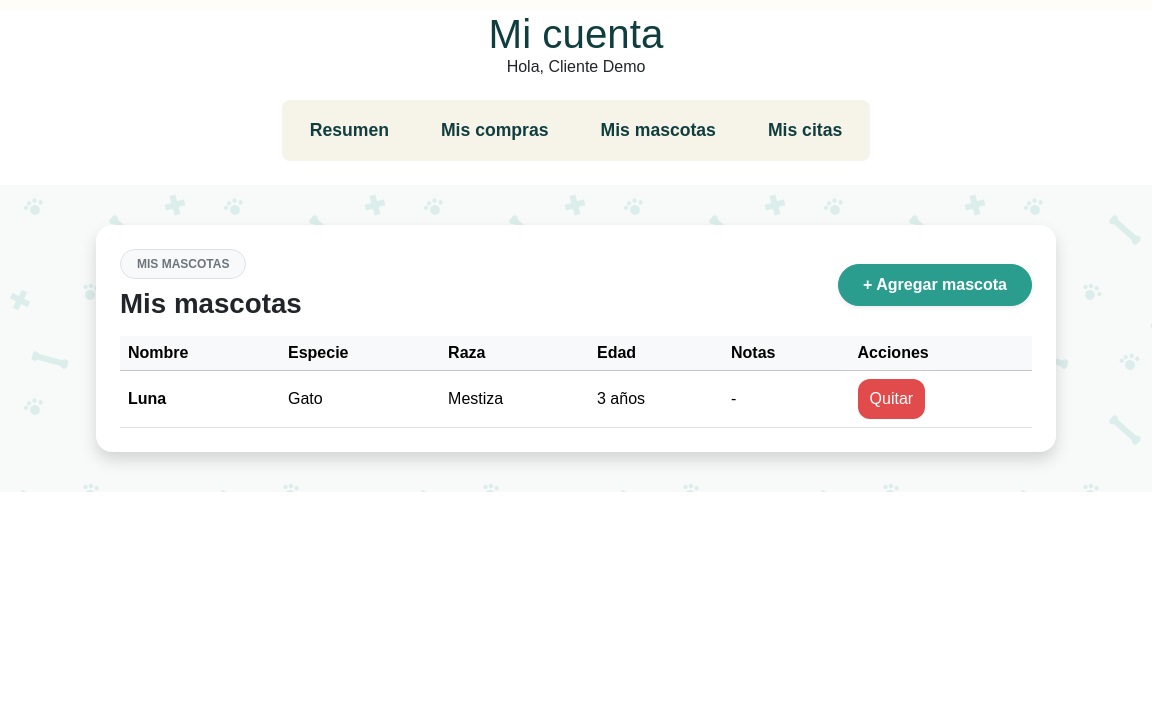
permite quitar una mascota después de confirmar en la página
Click the button "Quitar" at coordinates (891, 399), box [858,379,925,419]
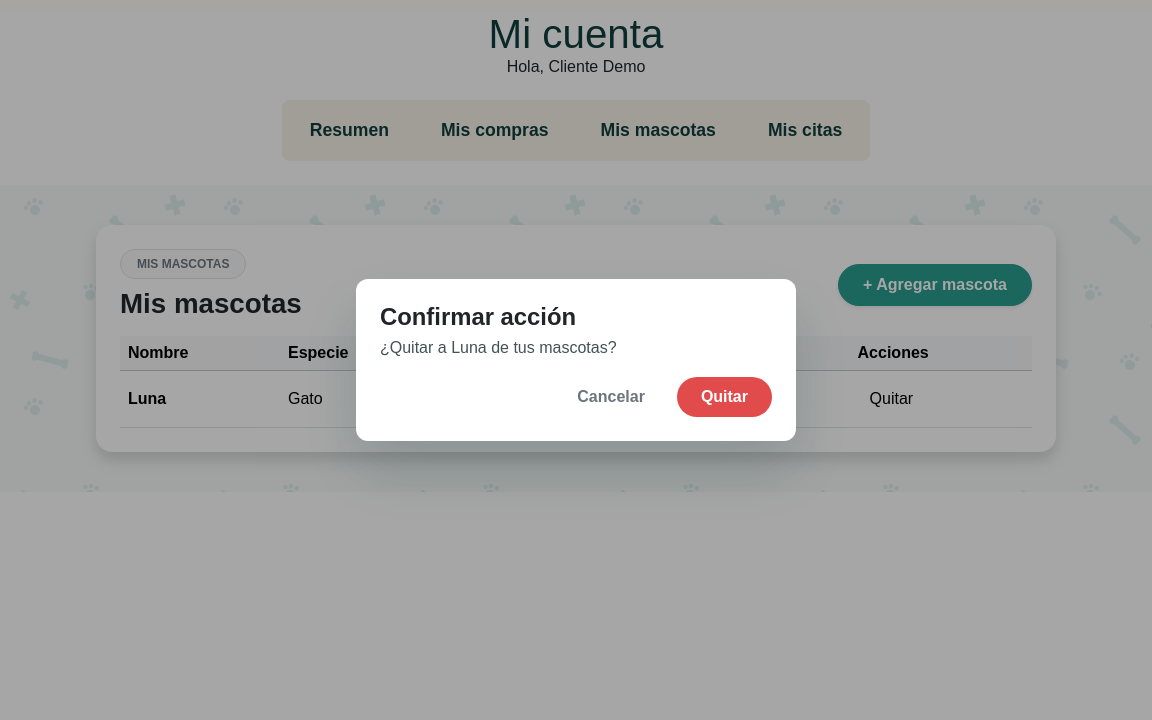
Now the dialog shows "¿Quitar a Luna de tus mascotas?", box [380,339,617,356]
Click the button with class "btn-delete" showing "Quitar" at coordinates (724, 397), box [677,377,772,417]
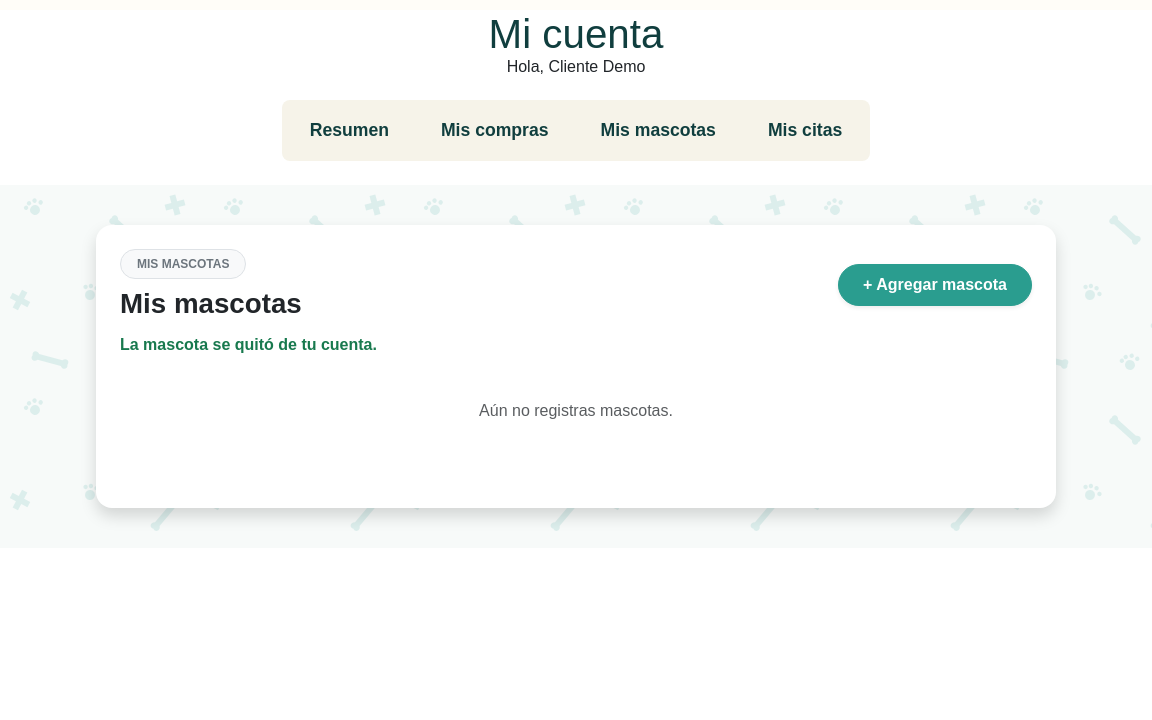
Now the text "Luna" is gone
